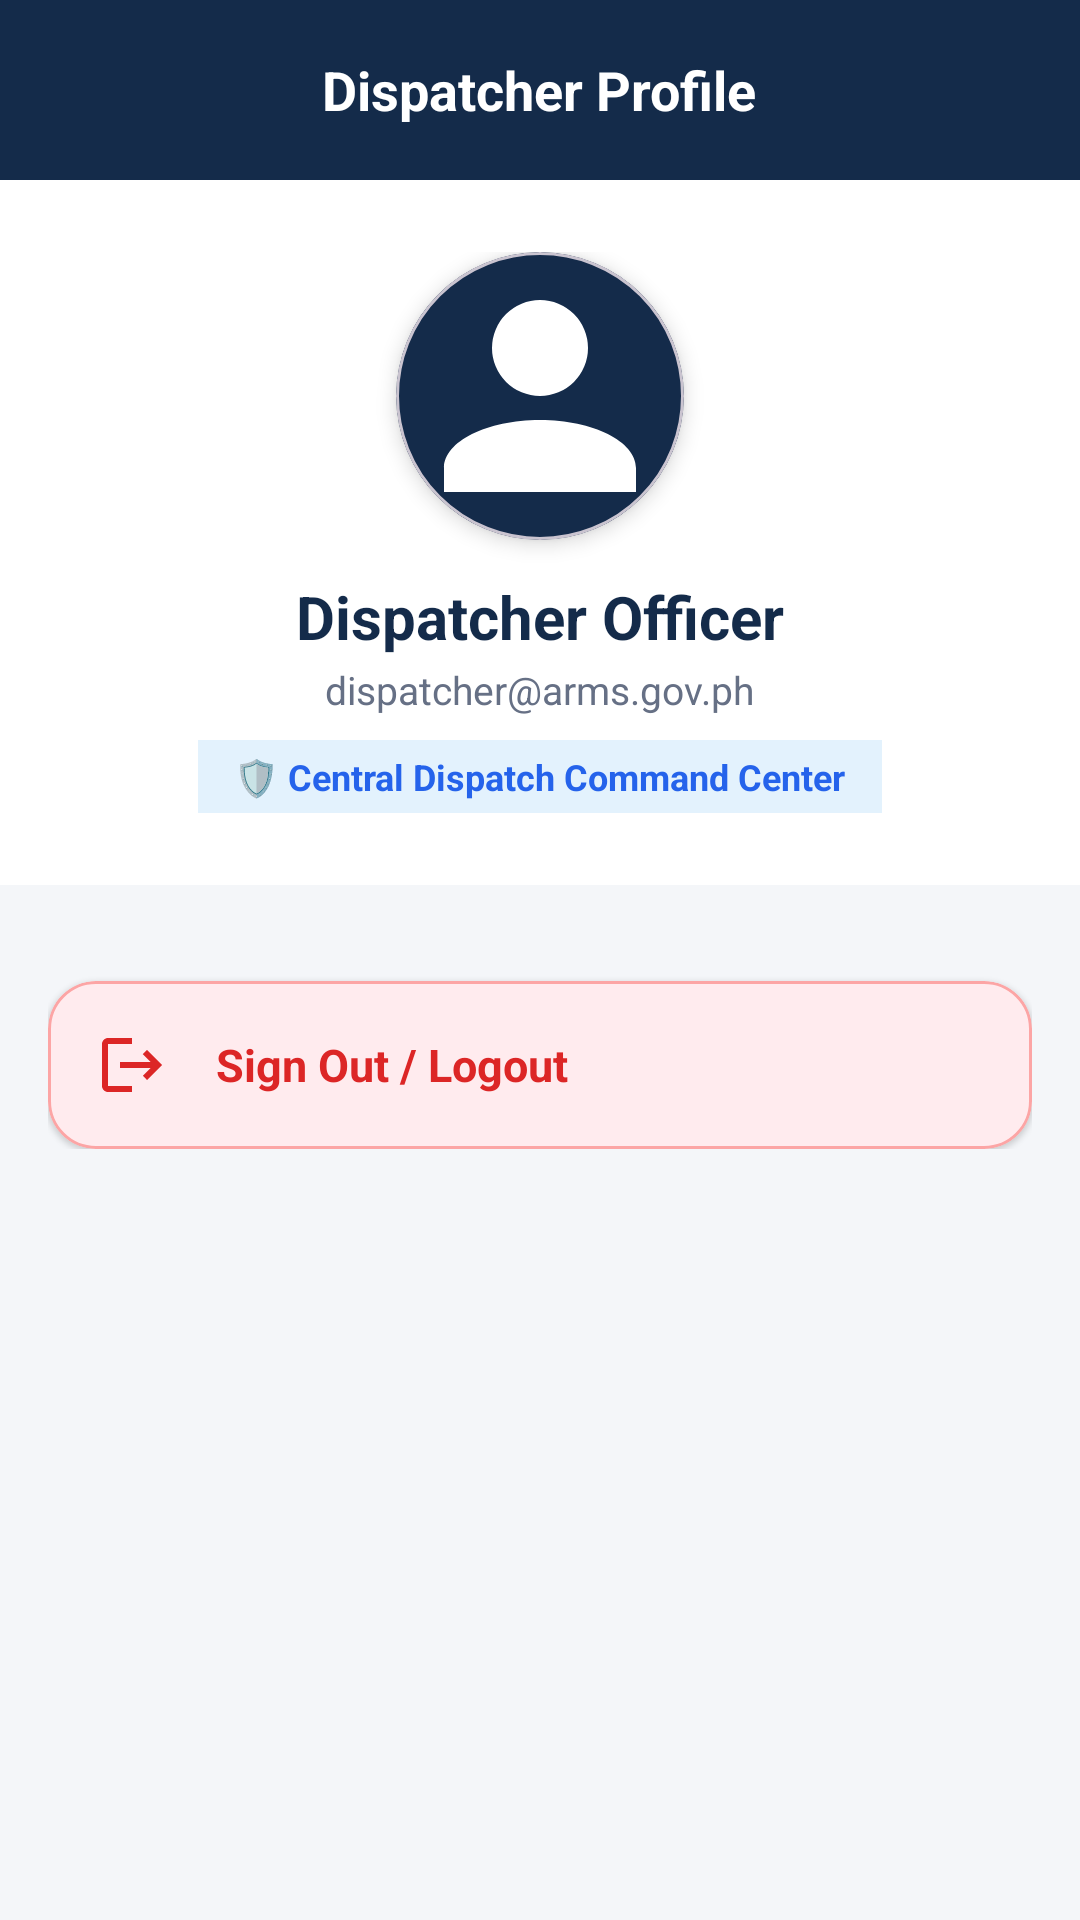

Where to tap for icons on this 1080px×1920px app screen, as [x,y]:
user: [540,396]
